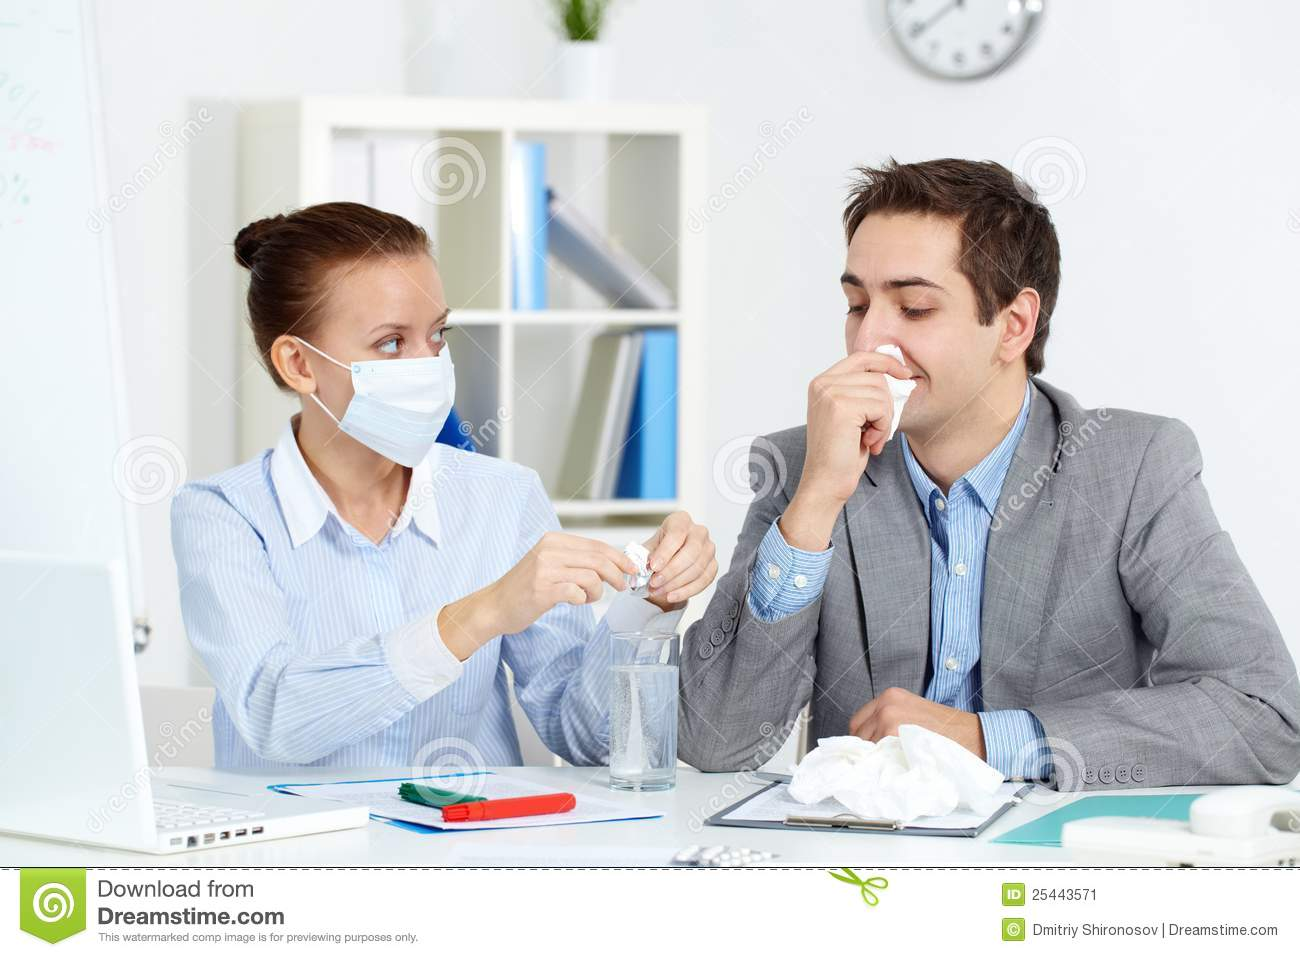mask: (341, 356, 457, 470)
